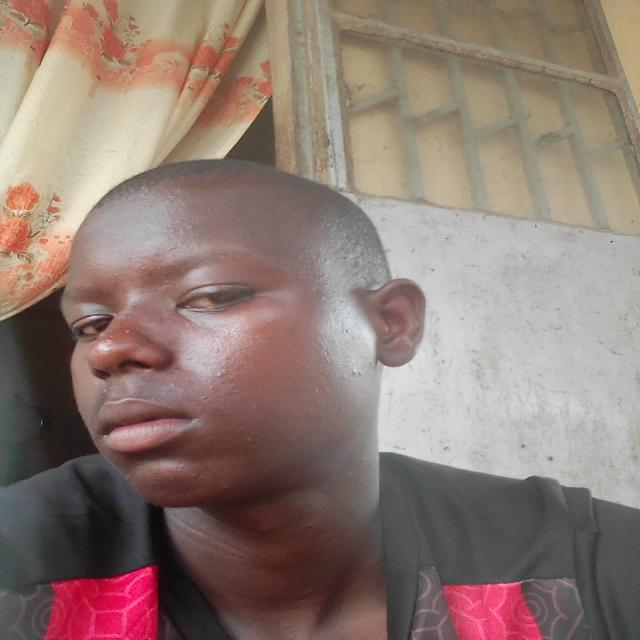Acne: (139, 255, 164, 272), (348, 368, 365, 378), (248, 402, 264, 412), (314, 257, 332, 265), (167, 380, 181, 388), (214, 370, 223, 380), (312, 387, 322, 395), (166, 246, 178, 252), (244, 439, 256, 444), (199, 394, 209, 400), (102, 387, 110, 394), (125, 328, 134, 334), (213, 348, 221, 354), (208, 385, 215, 390)
